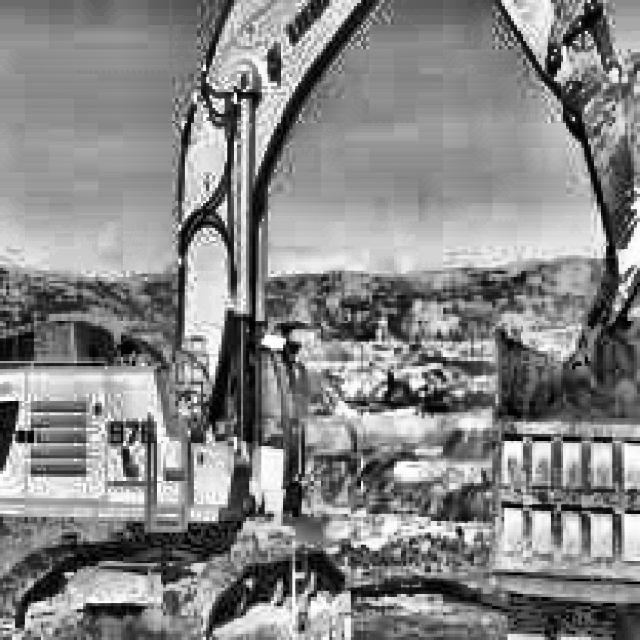dump_truck: (480, 317, 640, 640)
excavator: (0, 0, 640, 640)
